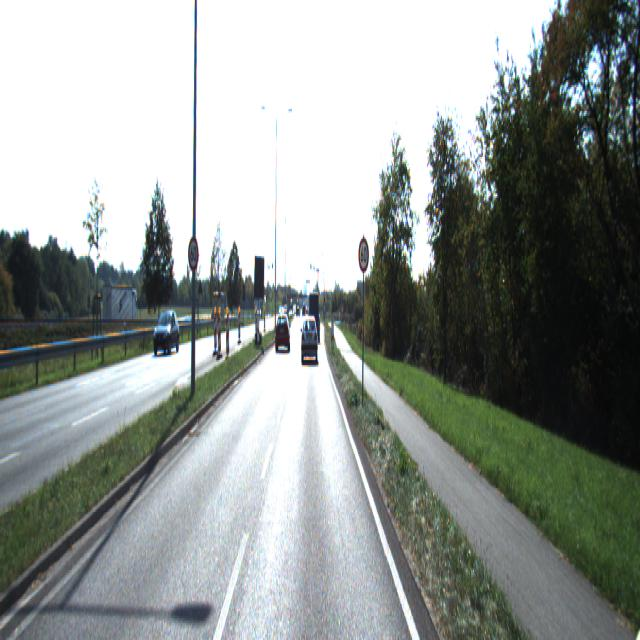Car: (153, 310, 179, 356), (301, 320, 318, 364), (275, 312, 290, 352), (308, 292, 320, 341)
